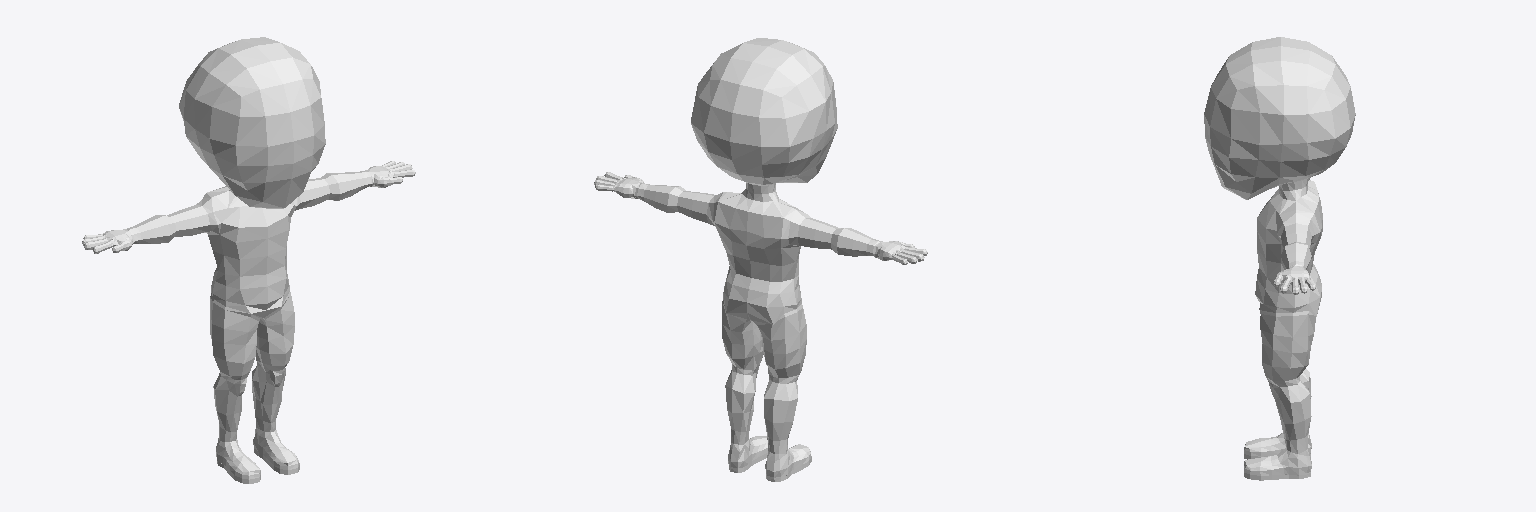
Rendered from White_Guy.obj.
3 views of the same model, side by side, from view 1: azimuth 30°, elevation 25°; view 2: azimuth 150°, elevation 25°; view 3: azimuth 270°, elevation 25° (orthographic).
Visible parts, largest first — view 1: White_Guy.obj; view 2: White_Guy.obj; view 3: White_Guy.obj.
Part boxes in pixels (left/top/right/bottom): White_Guy.obj: left=82, top=37, right=415, bottom=483; White_Guy.obj: left=594, top=38, right=927, bottom=481; White_Guy.obj: left=1204, top=37, right=1355, bottom=480.
Size of the model in its own units: 0.9611 by 1.18 by 0.3849.